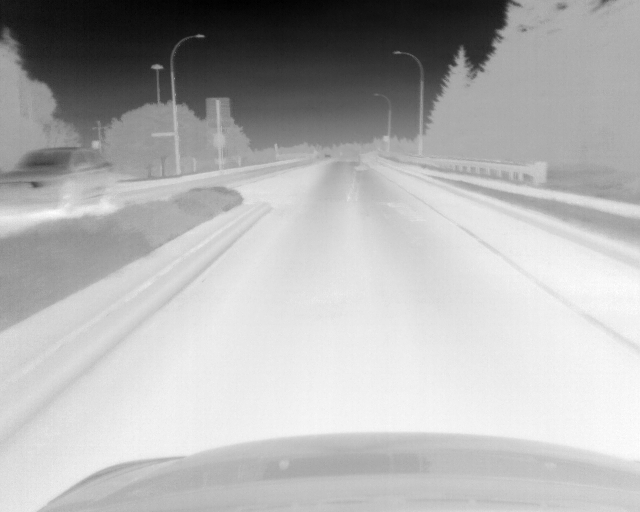car: (2, 147, 116, 213)
